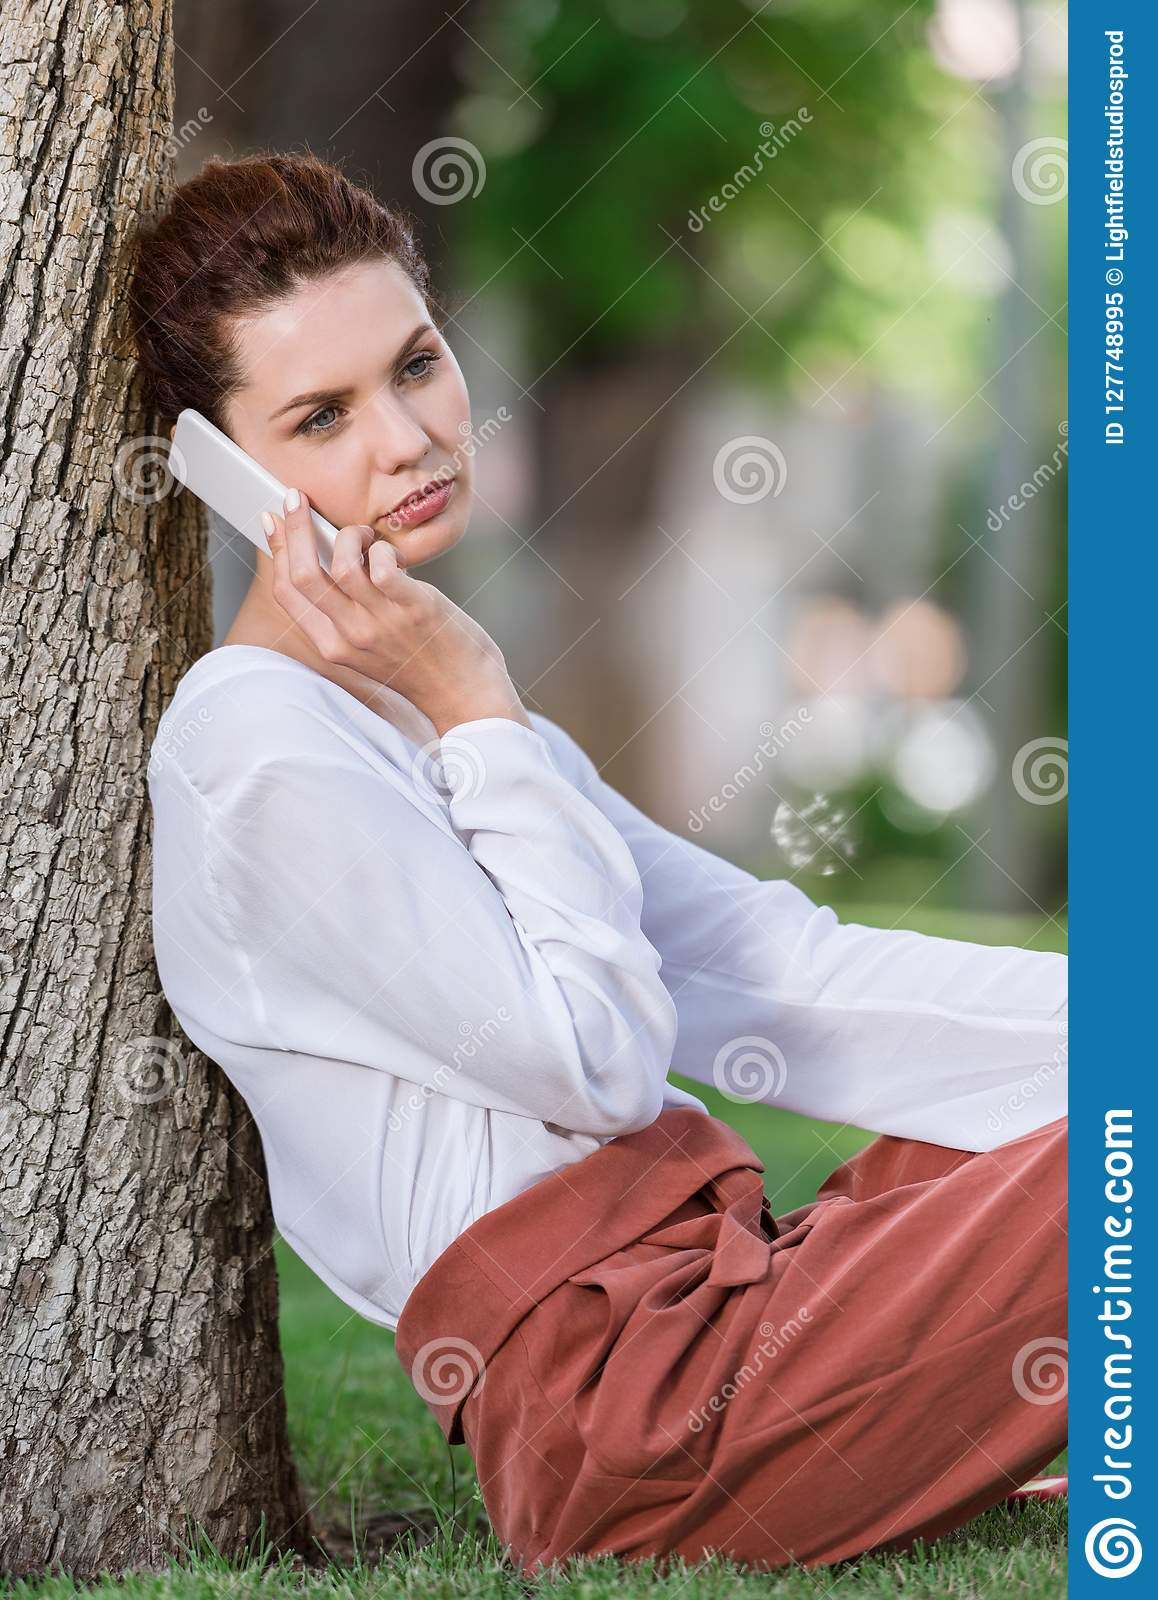phone: (166, 411, 370, 604)
talk: (158, 316, 490, 725)
